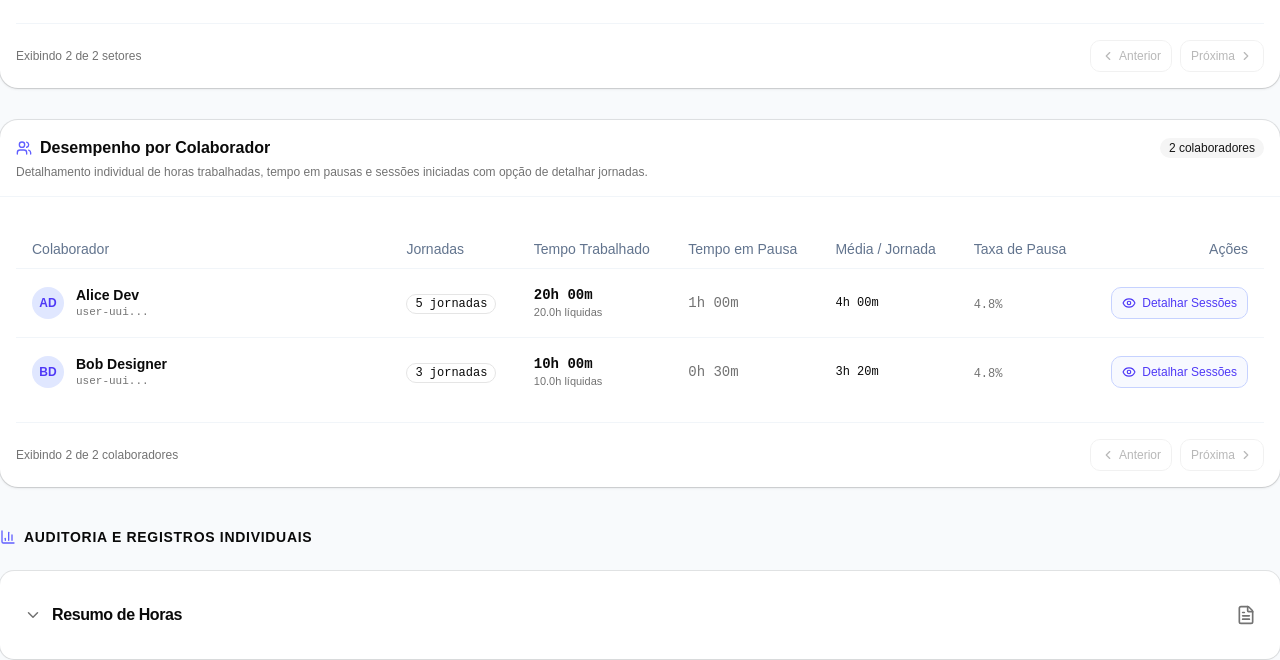
it: HourReport Admin Page (Metrics Summary & Users Breakdown) › deve abrir o modal de detalhamento de sessões ao clicar em "Detalhar Sessões"
(page scrolled)
Expected: the text "Alice Dev" is shown, left=76, top=285, right=149, bottom=305
Click the button "Detalhar Sessões" in the row of "Alice Dev".
click(1180, 303)  # box left=1111, top=287, right=1248, bottom=319
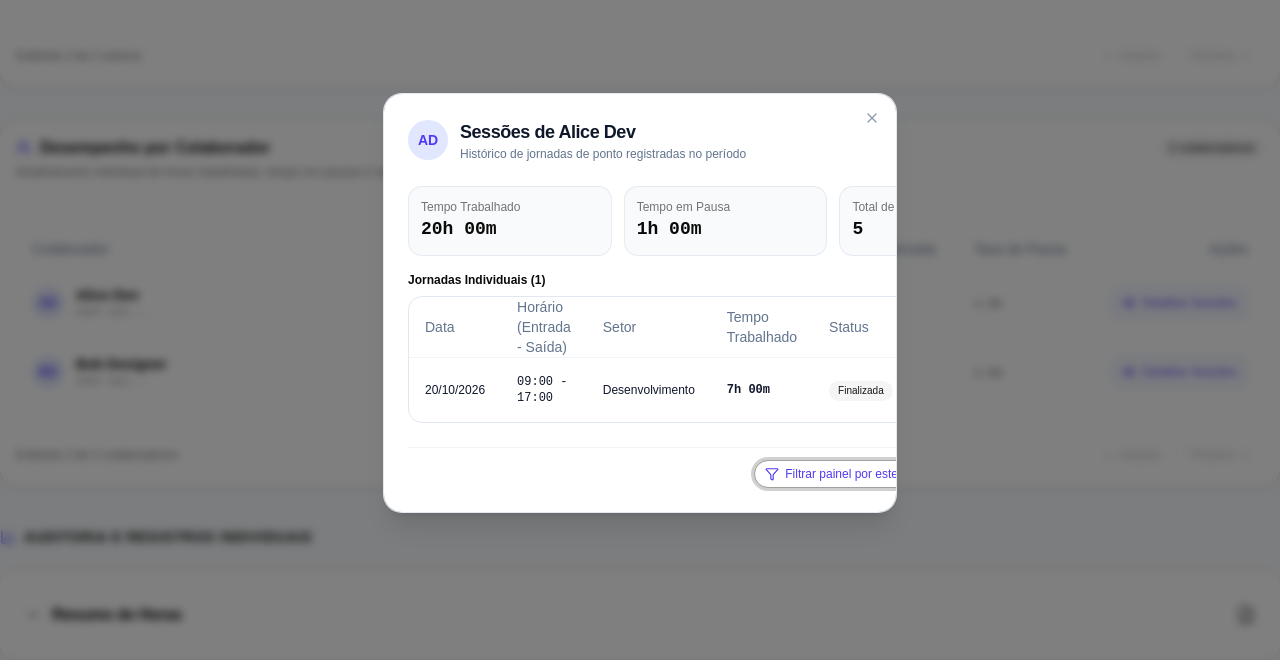
Expected: the heading "Sessões de Alice Dev" is shown, left=460, top=122, right=636, bottom=142
Click the button "Filtrar painel por este colaborador".
click(865, 474)  # box left=754, top=460, right=976, bottom=488
(page scrolled)
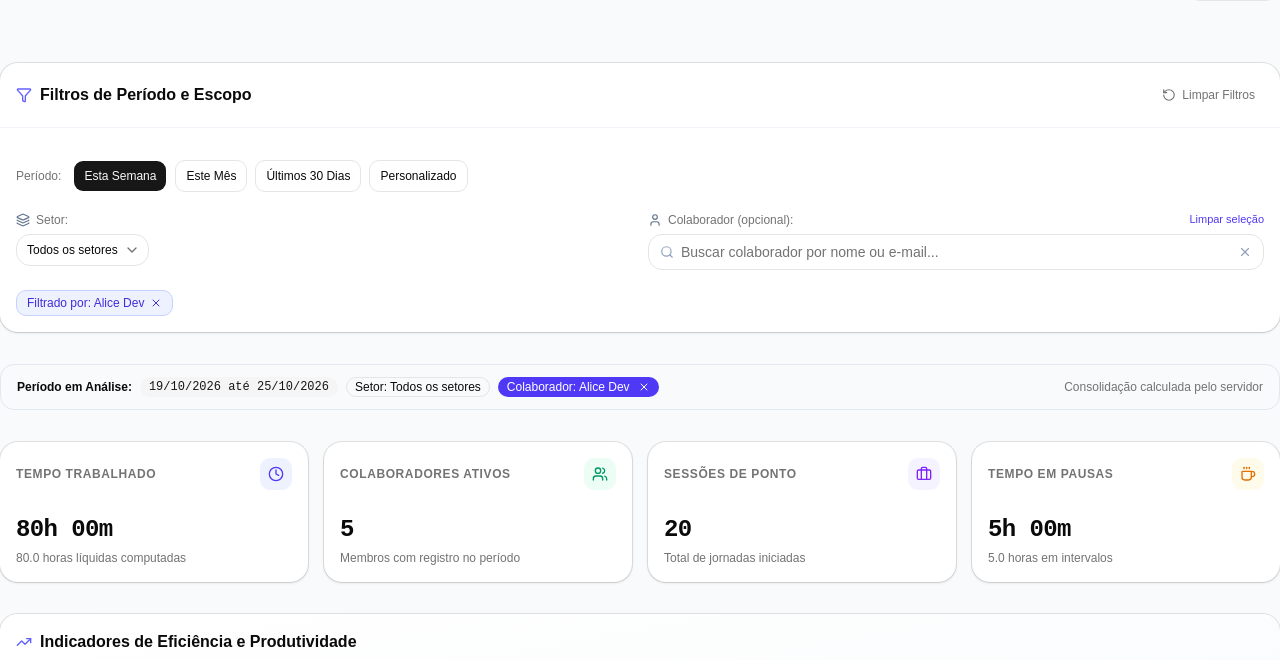
Expected: the text "Filtrado por: Alice Dev" is shown, left=27, top=295, right=144, bottom=311
